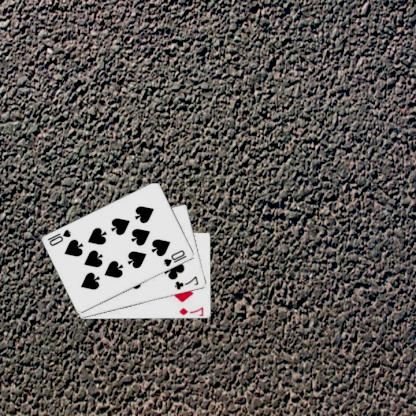10S: (163, 247, 190, 268), (47, 227, 74, 247)
7C: (174, 273, 202, 291)
7D: (178, 305, 207, 316)
